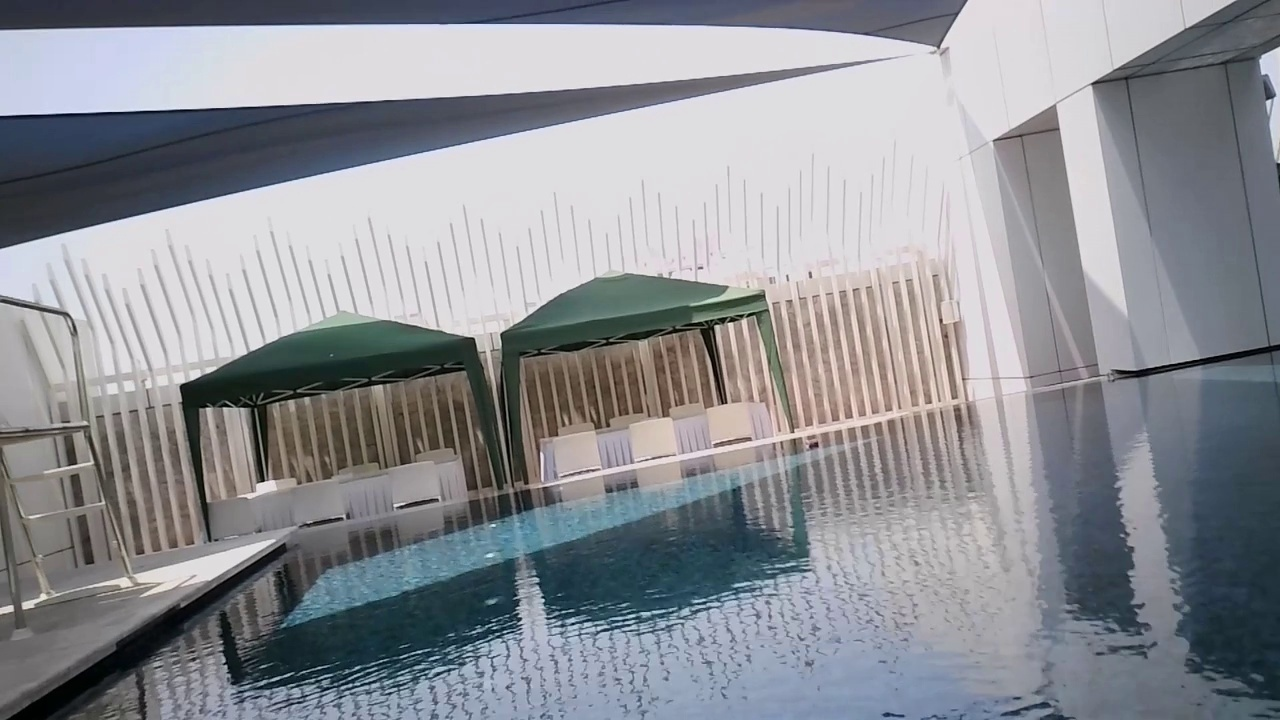debris: (1102, 369, 1118, 385), (802, 437, 820, 451)
